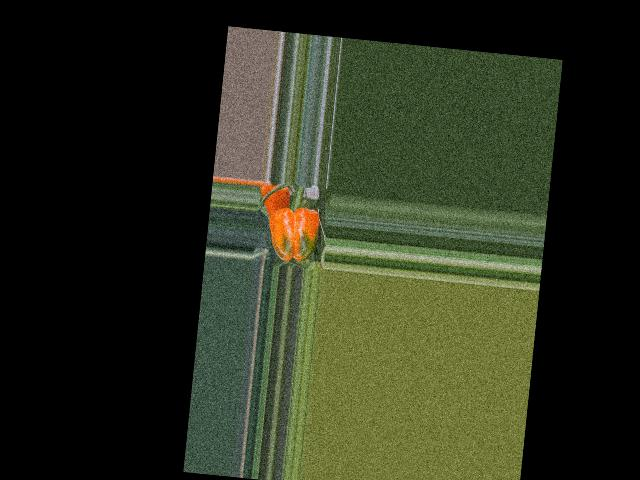bell_pepper: (262, 198, 328, 269)
